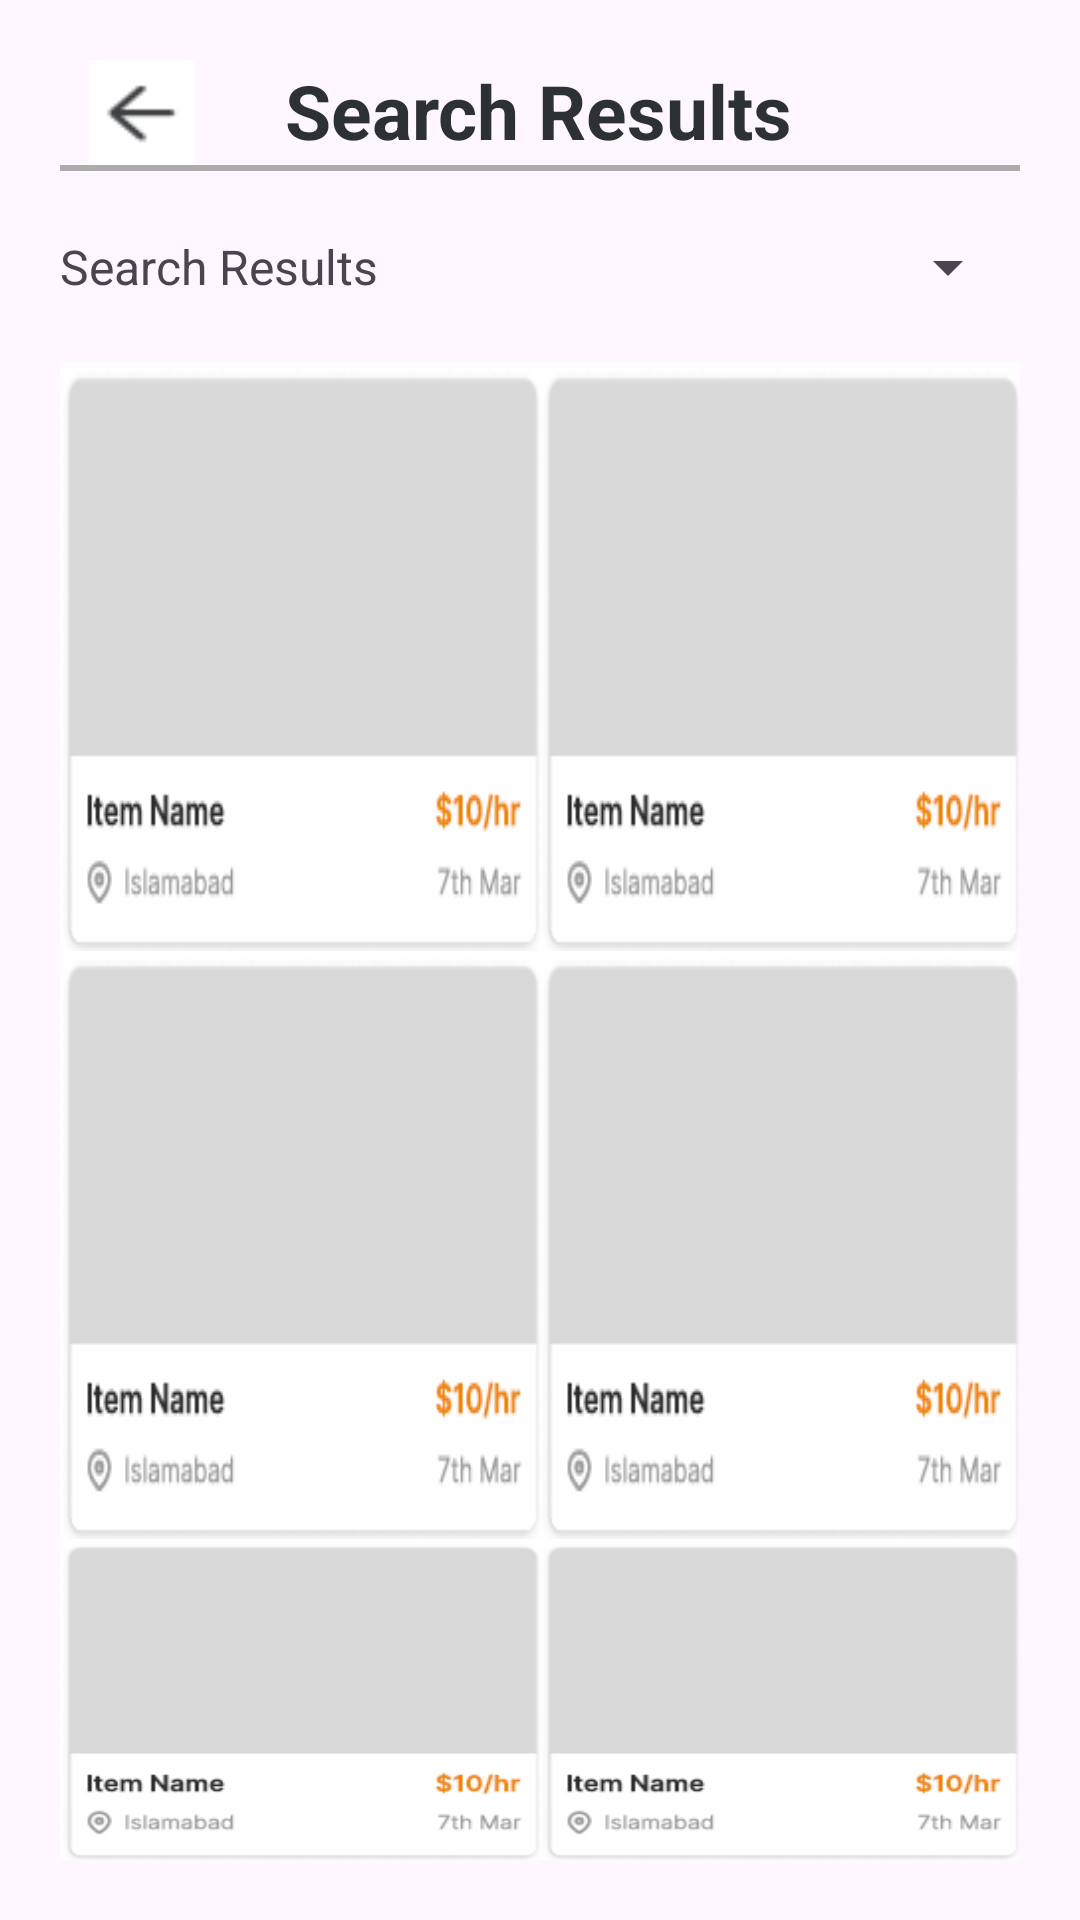

Screen size 1080 x 1920. Icon name, then its box in pixels as (x1, y1, x2, y2):
back: (107, 85, 176, 142)
